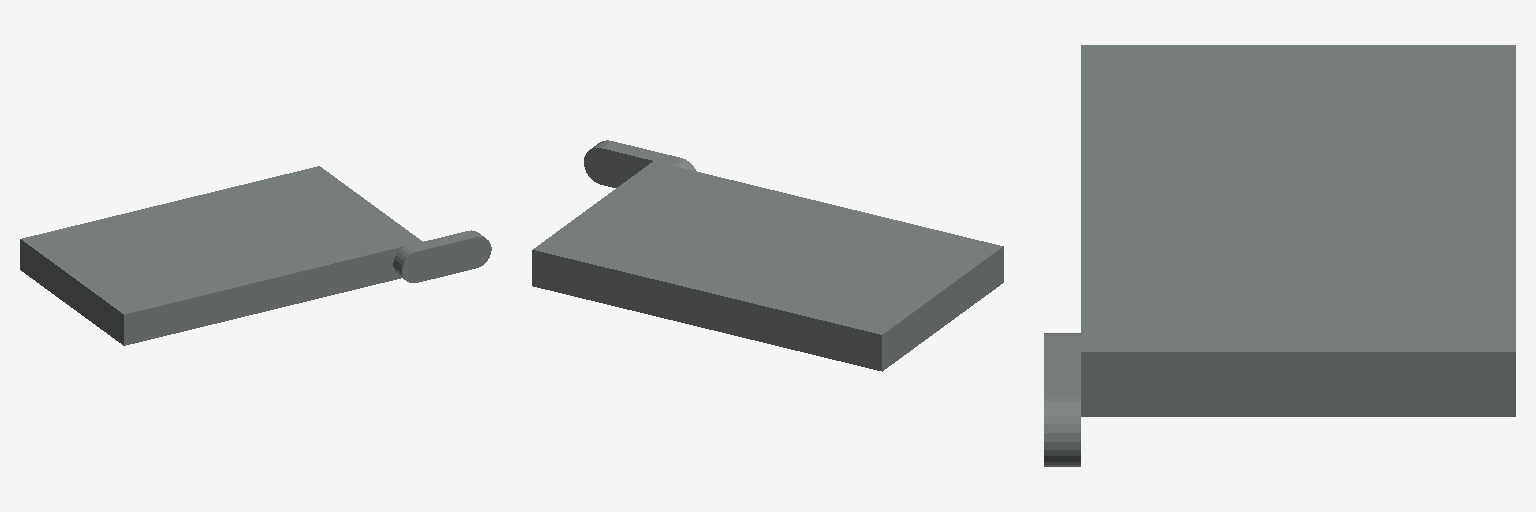
URDF robot description (gazebo_demo1):
<?xml version="1.0" encoding="utf-8"?>
<!-- This URDF was automatically created by SolidWorks to URDF Exporter! Originally created by [author] ([email redacted]) 
     Commit Version: 1.5.1-0-g916b5db  Build Version: 1.5.7152.31018
     For more information, please see http://wiki.ros.org/sw_urdf_exporter -->
<robot
  name="gazebo_demo1">

  <link
    name="base_link">
    <inertial>
      <origin
        xyz="-6.0445212263786E-18 1.39257863414922E-18 -2.20581496680807E-19"
        rpy="0 0 0" />
      <mass
        value="0.468" />
      <inertia
        ixx="0.0001443"
        ixy="-1.53384791846956E-20"
        ixz="-1.37563571644961E-21"
        iyy="0.0003939"
        iyz="-1.29382985829106E-37"
        izz="0.0005304" />
    </inertial>
    <visual>
      <origin
        xyz="0 0 0"
        rpy="0 0 0" />
      <geometry>
        <mesh
          filename="package://gazebo_demo1/meshes/base_link.STL" />
      </geometry>
      <material
        name="">
        <color
          rgba="0.529411764705882 0.549019607843137 0.549019607843137 1" />
      </material>
    </visual>
    <collision>
      <origin
        xyz="0 0 0"
        rpy="0 0 0" />
      <geometry>
        <mesh
          filename="package://gazebo_demo1/meshes/base_link.STL" />
      </geometry>
    </collision>
  <dynamic damping="0.7" friction="0.5" />
  </link>

  <link
    name="LF_LINK">
    <inertial>
      <origin
        xyz="0.01 -1.59413400484866E-18 0"
        rpy="0 0 0" />
      <mass
        value="0.0108630528372501" />
      <inertia
        ixx="1.06775440310417E-07"
        ixy="1.20998908503938E-22"
        ixz="-1.75453282727152E-23"
        iyy="7.38080724035423E-07"
        iyz="8.06501097239194E-25"
        izz="7.99593444190632E-07" />
    </inertial>
    <visual>
      <origin
        xyz="0 0 0"
        rpy="0 0 0" />
      <geometry>
        <mesh
          filename="package://gazebo_demo1/meshes/LF_LINK.STL" />
      </geometry>
      <material
        name="">
        <color
          rgba="0.529411764705882 0.549019607843137 0.549019607843137 1" />
      </material>
    </visual>
    <collision>
      <origin
        xyz="0 0 0"
        rpy="0 0 0" />
      <geometry>
        <mesh
          filename="package://gazebo_demo1/meshes/LF_LINK.STL" />
      </geometry>
    </collision>
  <dynamic damping="0.7" friction="0.5" />
  </link>
  <joint
    name="LF_JOINT"
    type="continuous">
    <origin
      xyz="0.045 0.0325 0"
      rpy="1.5708 0 0" />
    <parent
      link="base_link" />
    <child
      link="LF_LINK" />
    <axis
      xyz="0 0 1" />

  </joint>
  <link
    name="LB_LINK">
    <inertial>
      <origin
        xyz="0.01 -1.90361538571609E-18 6.93889390390723E-18"
        rpy="0 0 0" />
      <mass
        value="0.0108630528372501" />
      <inertia
        ixx="1.06775440310417E-07"
        ixy="1.10469815160512E-22"
        ixz="3.53711447230329E-24"
        iyy="7.38080724035424E-07"
        iyz="5.37667398159464E-25"
        izz="7.99593444190632E-07" />
    </inertial>
    <visual>
      <origin
        xyz="0 0 0"
        rpy="0 0 0" />
      <geometry>
        <mesh
          filename="package://gazebo_demo1/meshes/LB_LINK.STL" />
      </geometry>
      <material
        name="">
        <color
          rgba="0.529411764705882 0.549019607843137 0.549019607843137 1" />
      </material>
    </visual>
    <collision>
      <origin
        xyz="0 0 0"
        rpy="0 0 0" />
      <geometry>
        <mesh
          filename="package://gazebo_demo1/meshes/LB_LINK.STL" />
      </geometry>
    </collision>
  <dynamic damping="0.7" friction="0.5" />
  </link>
  <joint
    name="LB_JOINT"
    type="continuous">
    <origin
      xyz="-0.045 0.0325 0"
      rpy="1.5708 0 0" />
    <parent
      link="base_link" />
    <child
      link="LB_LINK" />
    <axis
      xyz="0 0 1" />

  </joint>
  <link
    name="RF_LINK">
    <inertial>
      <origin
        xyz="0.01 -1.85843759880028E-18 0"
        rpy="0 0 0" />
      <mass
        value="0.0108630528372501" />
      <inertia
        ixx="1.06775440310417E-07"
        ixy="1.5173510835766E-22"
        ixz="-9.00355753711158E-24"
        iyy="7.38080724035423E-07"
        iyz="-3.49483808803654E-24"
        izz="7.99593444190632E-07" />
    </inertial>
    <visual>
      <origin
        xyz="0 0 0"
        rpy="0 0 0" />
      <geometry>
        <mesh
          filename="package://gazebo_demo1/meshes/RF_LINK.STL" />
      </geometry>
      <material
        name="">
        <color
          rgba="0.529411764705882 0.549019607843137 0.549019607843137 1" />
      </material>
    </visual>
    <collision>
      <origin
        xyz="0 0 0"
        rpy="0 0 0" />
      <geometry>
        <mesh
          filename="package://gazebo_demo1/meshes/RF_LINK.STL" />
      </geometry>
    </collision>
  <dynamic damping="0.7" friction="0.5" />
  </link>
  <joint
    name="RF_JOINT"
    type="continuous">
    <origin
      xyz="0.045 -0.0325 0"
      rpy="1.5708 0 0" />
    <parent
      link="base_link" />
    <child
      link="RF_LINK" />
    <axis
      xyz="0 0 1" />
  </joint>
  <link
    name="RB_LINK">
    <inertial>
      <origin
        xyz="0.01 -1.6227366665734E-18 0"
        rpy="0 0 0" />
      <mass
        value="0.0108630528372501" />
      <inertia
        ixx="1.06775440310417E-07"
        ixy="1.36659023251123E-22"
        ixz="1.17764472964423E-23"
        iyy="7.38080724035423E-07"
        iyz="-1.6130021944784E-24"
        izz="7.99593444190632E-07" />
    </inertial>
    <visual>
      <origin
        xyz="0 0 0"
        rpy="0 0 0" />
      <geometry>
        <mesh
          filename="package://gazebo_demo1/meshes/RB_LINK.STL" />
      </geometry>
      <material
        name="">
        <color
          rgba="0.529411764705882 0.549019607843137 0.549019607843137 1" />
      </material>
    </visual>
    <collision>
      <origin
        xyz="0 0 0"
        rpy="0 0 0" />
      <geometry>
        <mesh
          filename="package://gazebo_demo1/meshes/RB_LINK.STL" />
      </geometry>
    </collision>
  <dynamic damping="0.7" friction="0.5" />
  </link>
  <joint
    name="RB_JOINT"
    type="continuous">
    <origin
      xyz="-0.045 -0.0325 0"
      rpy="1.5708 0 0" />
    <parent
      link="base_link" />
    <child
      link="RB_LINK" />
    <axis
      xyz="0 0 1" />

  </joint>

  <gazebo reference="base_link">
    <material>Gazebo/Black</material>
  </gazebo>

  <gazebo reference="LF_LINK">
    <material>Gazebo/Black</material>
  </gazebo>

  <gazebo reference="LB_LINK">
    <material>Gazebo/Black</material>
  </gazebo>

  <gazebo reference="RF_LINK">
    <material>Gazebo/Black</material>
  </gazebo>

  <gazebo reference="RB_LINK">
    <material>Gazebo/Black</material>
  </gazebo>

  <transmission name="LF_JOINT_trans">
    <type>transmission_interface/SimpleTransmission</type>
    <joint name="LF_JOINT">
      <hardwareInterface>hardware_interface/PositionJointInterface</hardwareInterface>
    </joint>
    <actuator name="LF_JOINT_motor">
      <hardwareInterface>hardware_interface/PositionJointInterface</hardwareInterface>
      <mechanicalReduction>1</mechanicalReduction>
    </actuator>
  </transmission>

  <transmission name="LB_JOINT_trans">
    <type>transmission_interface/SimpleTransmission</type>
    <joint name="LB_JOINT">
      <hardwareInterface>hardware_interface/PositionJointInterface</hardwareInterface>
    </joint>
    <actuator name="LB_JOINT_motor">
      <hardwareInterface>hardware_interface/PositionJointInterface</hardwareInterface>
      <mechanicalReduction>1</mechanicalReduction>
    </actuator>
  </transmission>

  <transmission name="RF_JOINT_trans">
    <type>transmission_interface/SimpleTransmission</type>
    <joint name="RF_JOINT">
      <hardwareInterface>hardware_interface/PositionJointInterface</hardwareInterface>
    </joint>
    <actuator name="RF_JOINT_motor">
      <hardwareInterface>hardware_interface/PositionJointInterface</hardwareInterface>
      <mechanicalReduction>1</mechanicalReduction>
    </actuator>
  </transmission>

  <transmission name="RB_JOINT_trans">
    <type>transmission_interface/SimpleTransmission</type>
    <joint name="RB_JOINT">
      <hardwareInterface>hardware_interface/PositionJointInterface</hardwareInterface>
    </joint>
    <actuator name="RB_JOINT_motor">
      <hardwareInterface>hardware_interface/PositionJointInterface</hardwareInterface>
      <mechanicalReduction>1</mechanicalReduction>
    </actuator>
  </transmission>

  <gazebo>
    <plugin name="gazebo_ros_control" filename="libgazebo_ros_control.so">
      <robotNamespace>/gazebo_demo1</robotNamespace>
      <robotSimType>gazebo_ros_control/DefaultRobotHWSim</robotSimType>
      <legacyModeNS>true</legacyModeNS>
    </plugin>
  </gazebo>

</robot>

--- What the picture shows (computed from the rendered views, not written in the file) ---
3 views of the same robot in one strip: view 1: azimuth 30°, elevation 25°; view 2: azimuth 150°, elevation 25°; view 3: azimuth 270°, elevation 25° (orthographic).
Robot: gazebo_demo1 — 5 links, 4 joints (4 continuous); root link base_link; default pose: all joints at 0.
Links seen in each view (by area): view 1: base_link, RF_LINK; view 2: base_link, RF_LINK; view 3: base_link, RF_LINK.
Link boxes in pixels (left/top/right/bottom): base_link: left=20, top=166, right=422, bottom=345; RF_LINK: left=393, top=230, right=491, bottom=282; base_link: left=532, top=161, right=1003, bottom=371; RF_LINK: left=584, top=140, right=695, bottom=187; base_link: left=1081, top=45, right=1515, bottom=416; RF_LINK: left=1044, top=333, right=1080, bottom=466.
Bounding box of the posed robot: 0.12 × 0.065 × 0.01 m (x, y, z).
Meshes: 5 distinct files referenced, 2 mesh visuals loaded (2 binary STL); not drawn: 3 (reference not matched to a file when rendering).